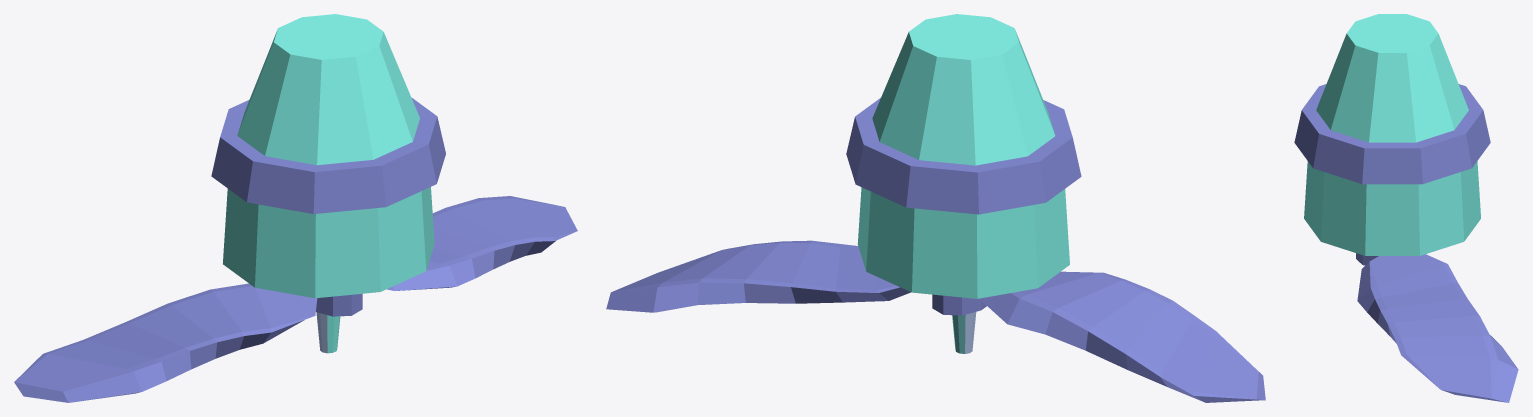
Rendered from Propeller1.fbx.
3 views of the same model, side by side, from view 1: azimuth 30°, elevation 25°; view 2: azimuth 150°, elevation 25°; view 3: azimuth 270°, elevation 25° (orthographic). The views are drawn at different scales.
Visible parts, largest first — view 1: Propeller1; view 2: Propeller1; view 3: Propeller1.
Boxes of the visible parts, box(x1,y1,x2,y2) form: Propeller1: box(14, 14, 577, 402); Propeller1: box(606, 14, 1265, 402); Propeller1: box(1294, 14, 1518, 402).
Size of the model in its own units: 300 by 150 by 114.
